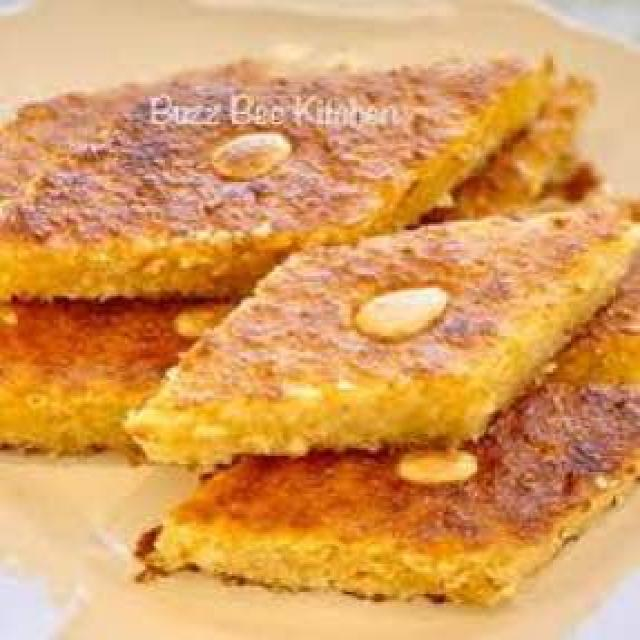pasposa: (0, 28, 640, 608)
